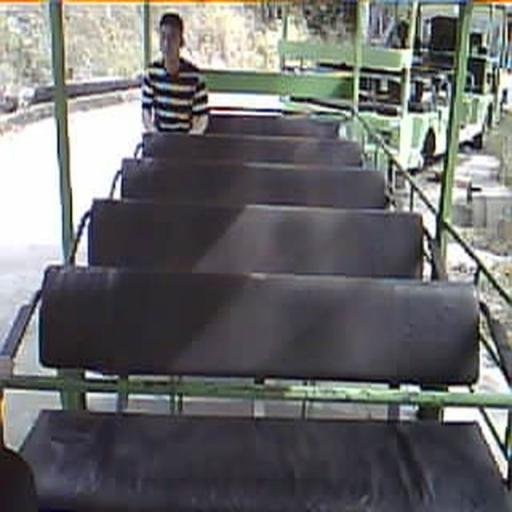persona: (132, 12, 211, 138)
